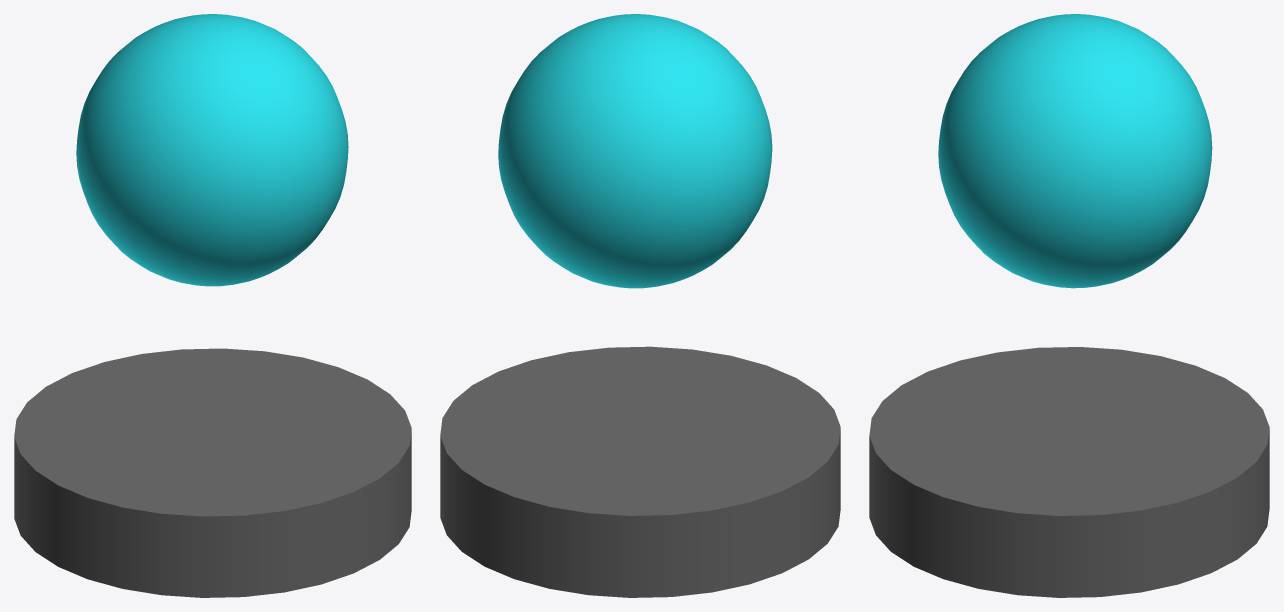
The model's file is sphBlue.glb.
The picture shows the model from 3 angles, left to right: view 1: azimuth 30°, elevation 25°; view 2: azimuth 150°, elevation 25°; view 3: azimuth 270°, elevation 25°; orthographic projection.
Parts seen in each view (by area): view 1: 031_Cylinder_-_baked_3, 030_Sphere; view 2: 031_Cylinder_-_baked_3, 030_Sphere; view 3: 031_Cylinder_-_baked_3, 030_Sphere.
Boxes of the visible parts, bbox=[...] form: 031_Cylinder_-_baked_3: bbox=[14, 348, 411, 597]; 030_Sphere: bbox=[76, 14, 348, 286]; 031_Cylinder_-_baked_3: bbox=[440, 346, 840, 597]; 030_Sphere: bbox=[498, 14, 772, 288]; 031_Cylinder_-_baked_3: bbox=[869, 347, 1269, 597]; 030_Sphere: bbox=[938, 14, 1212, 288].
Size of the model in its own units: 17.32 by 23.29 by 17.32.
